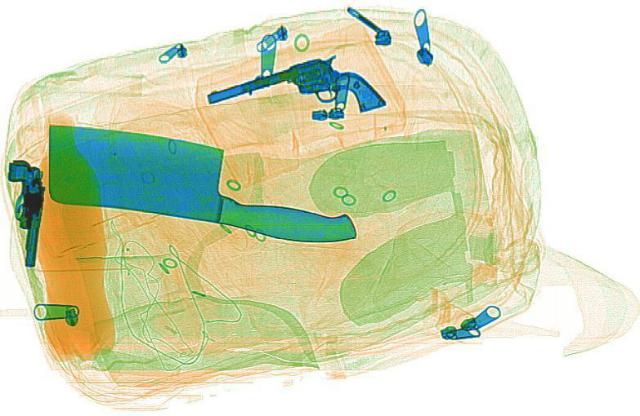Gun: (191, 48, 391, 135), (0, 152, 67, 269)
Knife: (22, 119, 392, 247)
